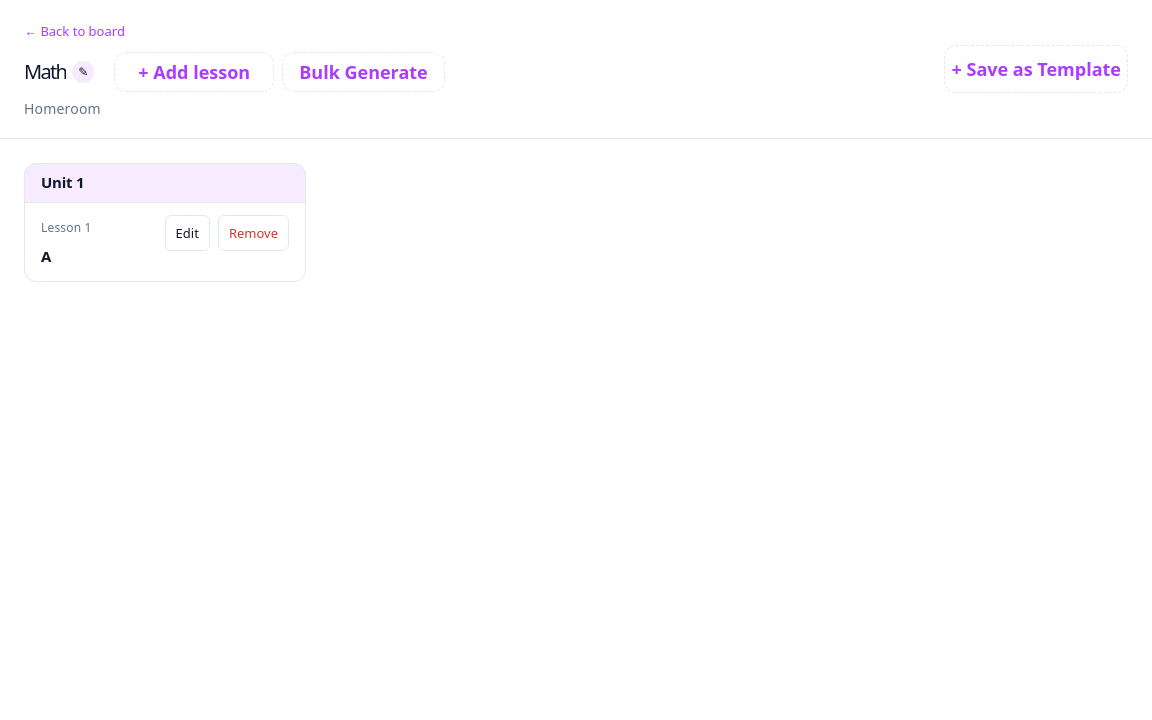
Test: Curriculum › still live-recomputes the suggested lesson number when the teacher types a different unit after the pre-filled form opens
Click the button "+ Add lesson".
click(194, 72)  # box [114,52,274,92]
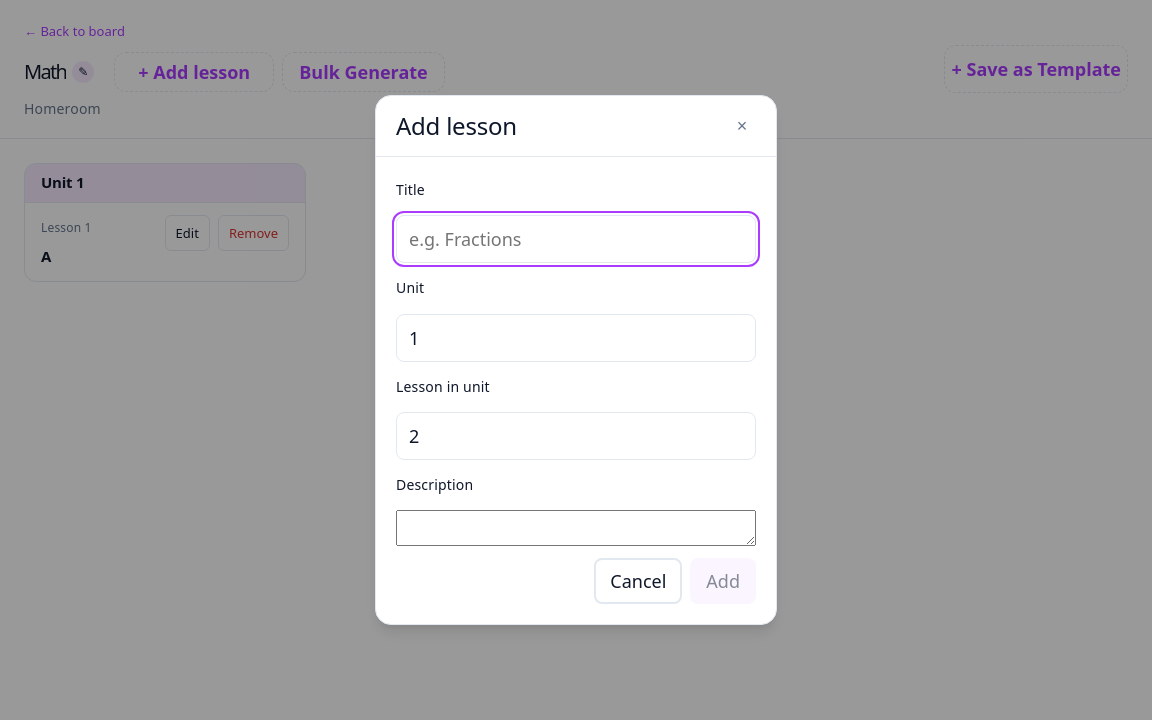
Result: the number field labelled "Unit" holds "1"
Result: the number field labelled "Lesson in unit" holds "2" at [396,412,756,460]
Replace the text in the number field labelled "Unit" with "5" at (576, 338), box [396,314,756,362]
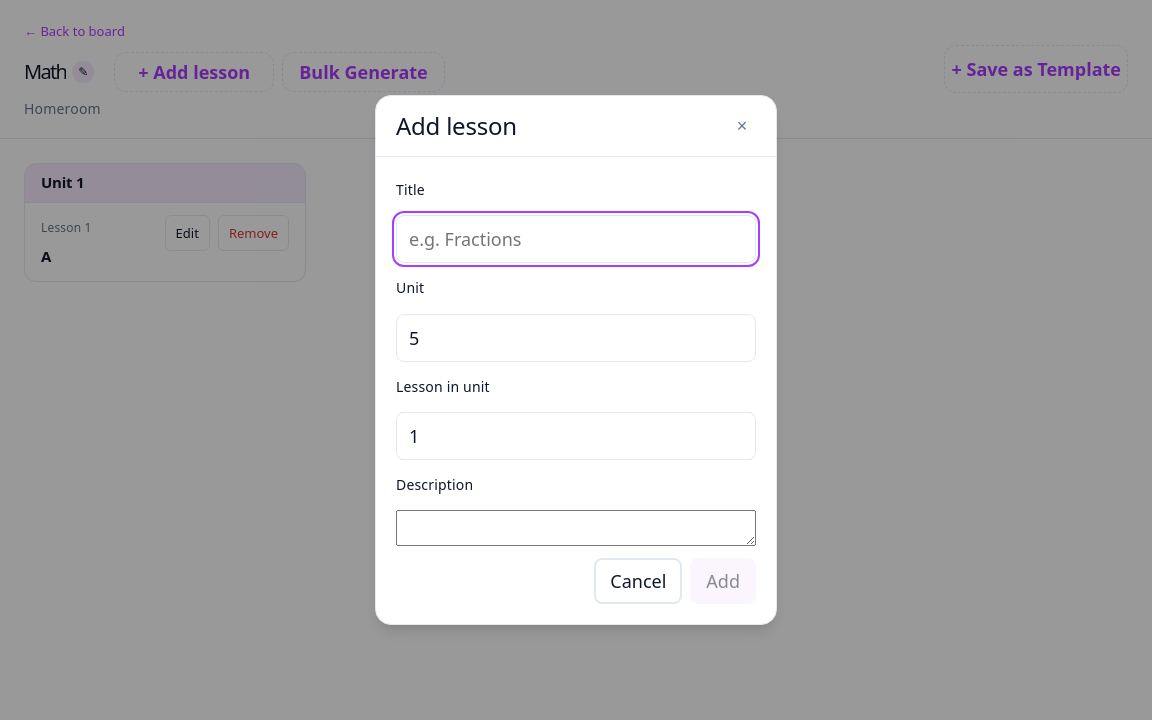
Result: the number field labelled "Lesson in unit" holds "1" at [396,412,756,460]
